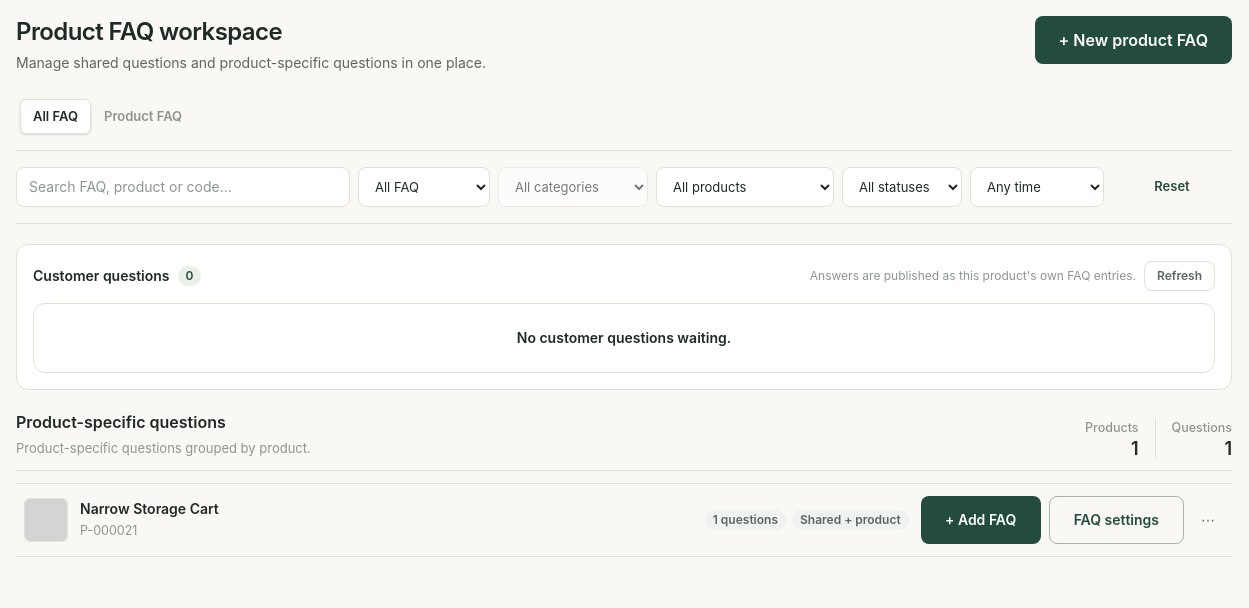
Test: FaqWorkspace › uses one product Add action and moves Open product into group More
Expected: the text "Narrow Storage Cart" is shown, [80,500,219,517]
Expected: the number of buttons named "Add product FAQ" is 1, [921,496,1041,544]
Step 1. Click the button named "More actions — Narrow Storage Cart" → (1208,520), box [1192,504,1224,536]
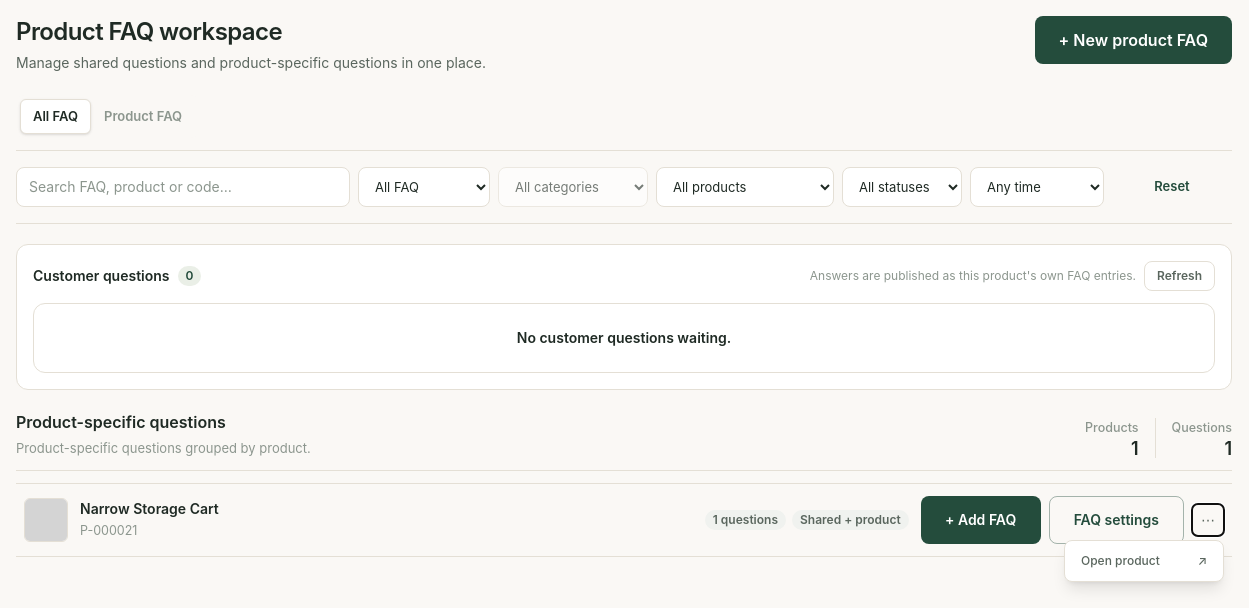
Now the link with aria-label "Open product — Narrow Storage Cart" is shown, box [1081,553,1207,568]
